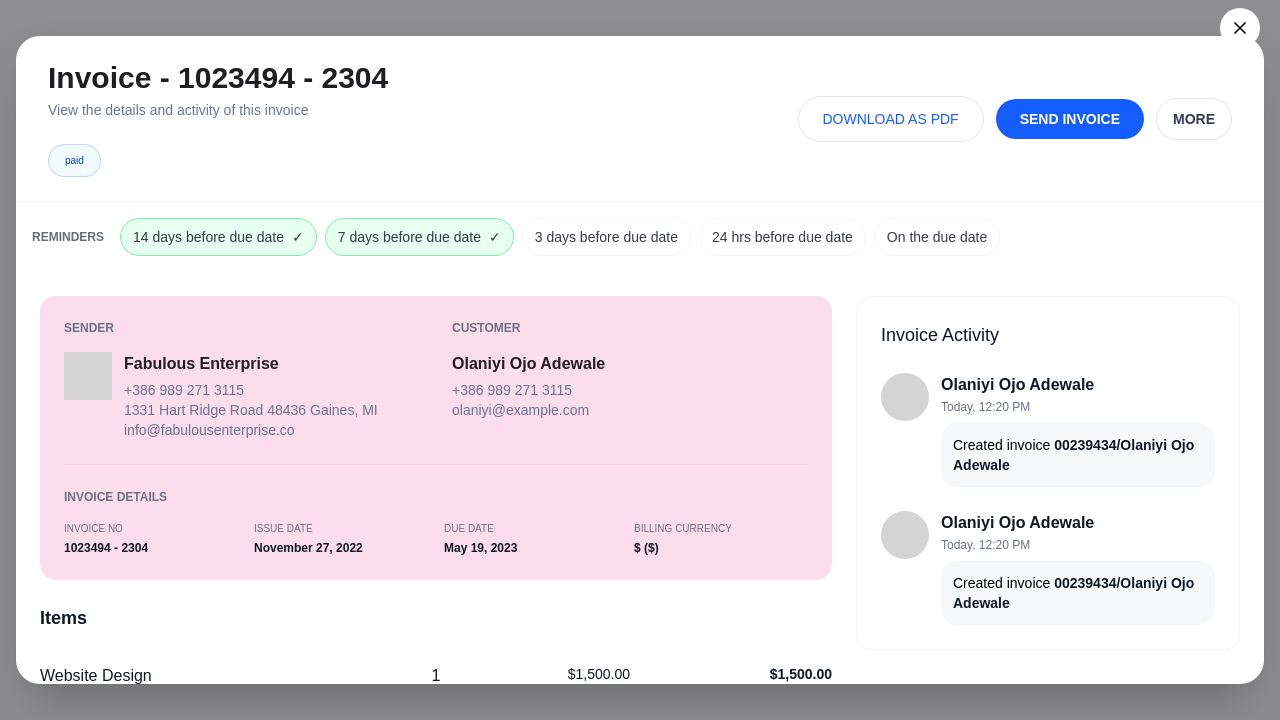
InvoiceModal - Critical Component Tests › User Interactions › should toggle more menu when MORE button is clicked
This screenshot has width=1280, height=720.
Click the button "MORE" at (1194, 118), box left=1156, top=98, right=1232, bottom=140
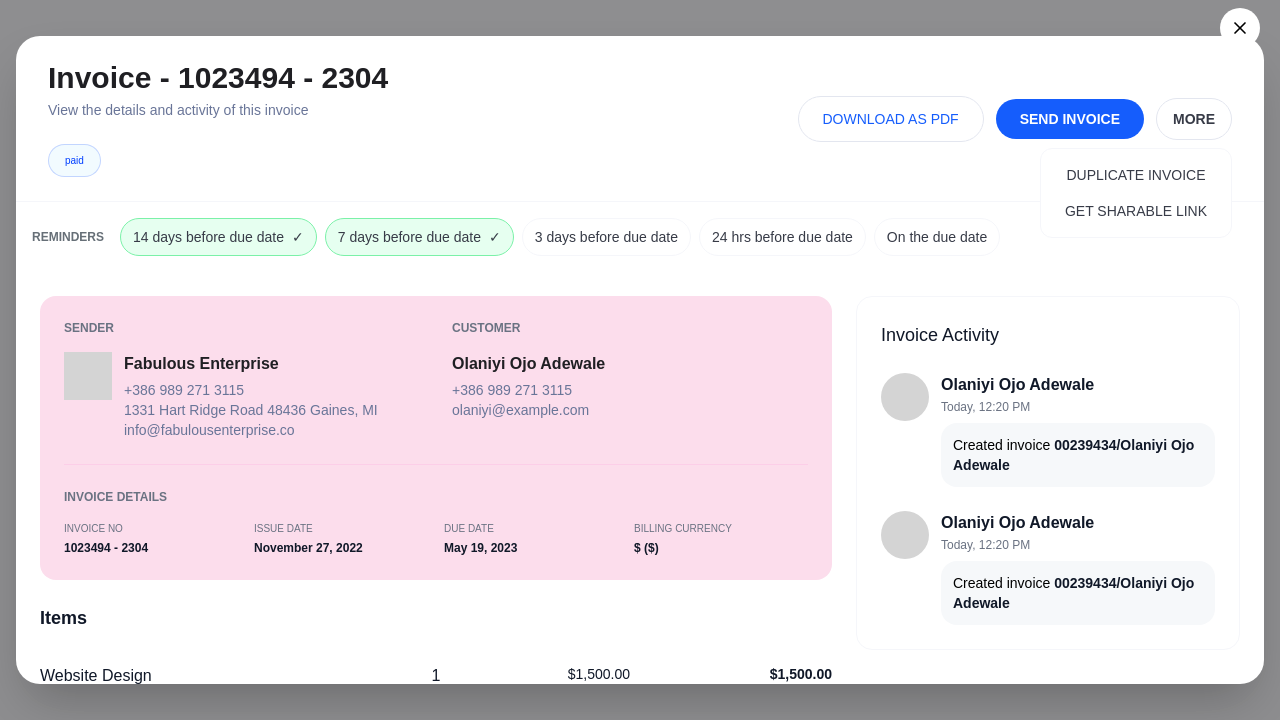
Expected: the button "DUPLICATE INVOICE" is shown, left=1041, top=156, right=1231, bottom=192
Expected: the button "GET SHARABLE LINK" is shown, left=1041, top=192, right=1231, bottom=228
